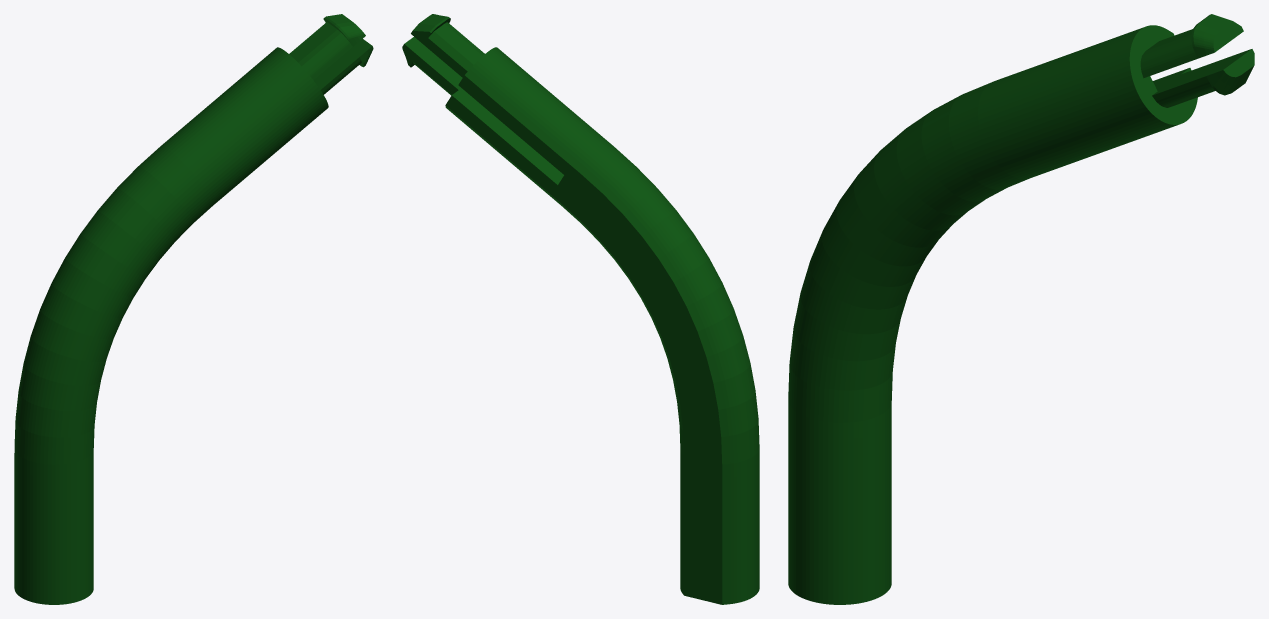
File: stem_1A_60_R.glb
3 renders of one model, left to right at view 1: azimuth 30°, elevation 25°; view 2: azimuth 150°, elevation 25°; view 3: azimuth 330°, elevation 25°, orthographic. The views are drawn at different scales.
Visible parts, largest first — view 1: stem_1A_60R; view 2: stem_1A_60R; view 3: stem_1A_60R.
Boxes of the visible parts, bbox=[...] form: stem_1A_60R: bbox=[14, 14, 373, 604]; stem_1A_60R: bbox=[402, 14, 759, 604]; stem_1A_60R: bbox=[788, 14, 1254, 604].
Size of the model in its own units: 0.0362 by 0.05 by 0.00666.
